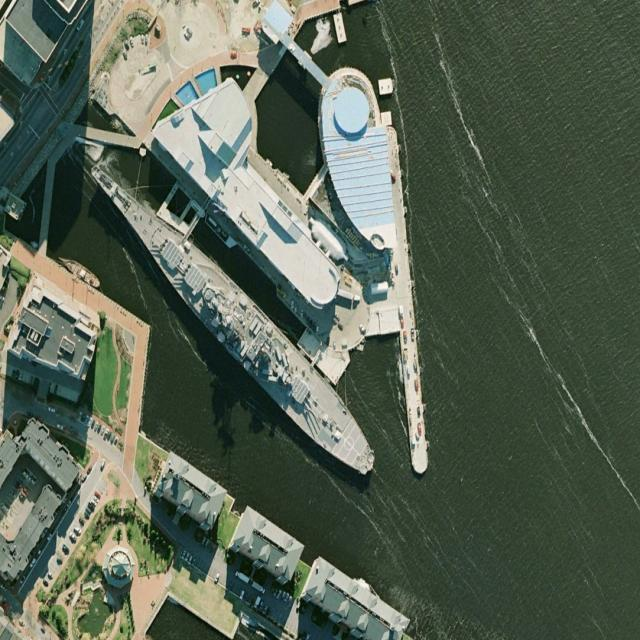Other Warship: (79, 143, 385, 491)
